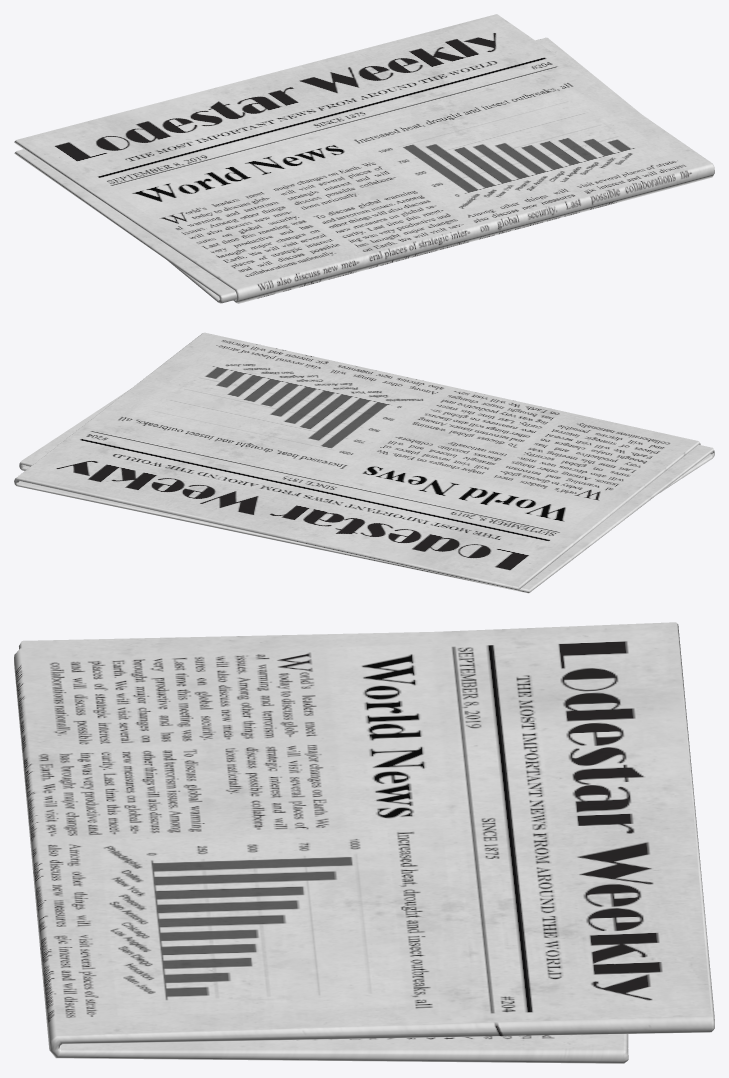
Rendered from SM_NewsPaper_A2.fbx.
3 views of the same model, one above another, from view 1: azimuth 30°, elevation 25°; view 2: azimuth 150°, elevation 25°; view 3: azimuth 270°, elevation 25° (orthographic). The views are drawn at different scales.
Visible parts, largest first — view 1: SM_NewsPaper_A2; view 2: SM_NewsPaper_A2; view 3: SM_NewsPaper_A2.
Part boxes in pixels (box(x1,y1,x2,y2)): SM_NewsPaper_A2: box(14, 14, 714, 303); SM_NewsPaper_A2: box(14, 332, 714, 593); SM_NewsPaper_A2: box(14, 622, 714, 1063).
Size of the model in its own units: 34.59 by 24.62 by 1.35.
1 material, 1 textured.
